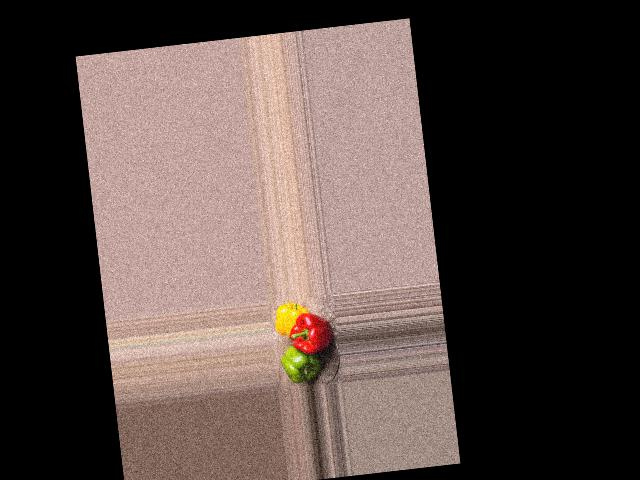bell_pepper: (271, 300, 311, 336)
